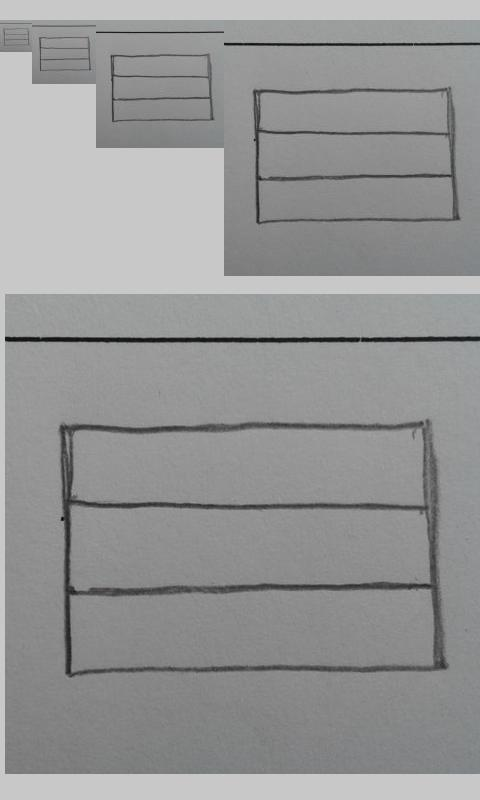list_view: (58, 420, 445, 680), (254, 88, 457, 225), (110, 53, 215, 123), (38, 36, 91, 72), (3, 27, 30, 47)
